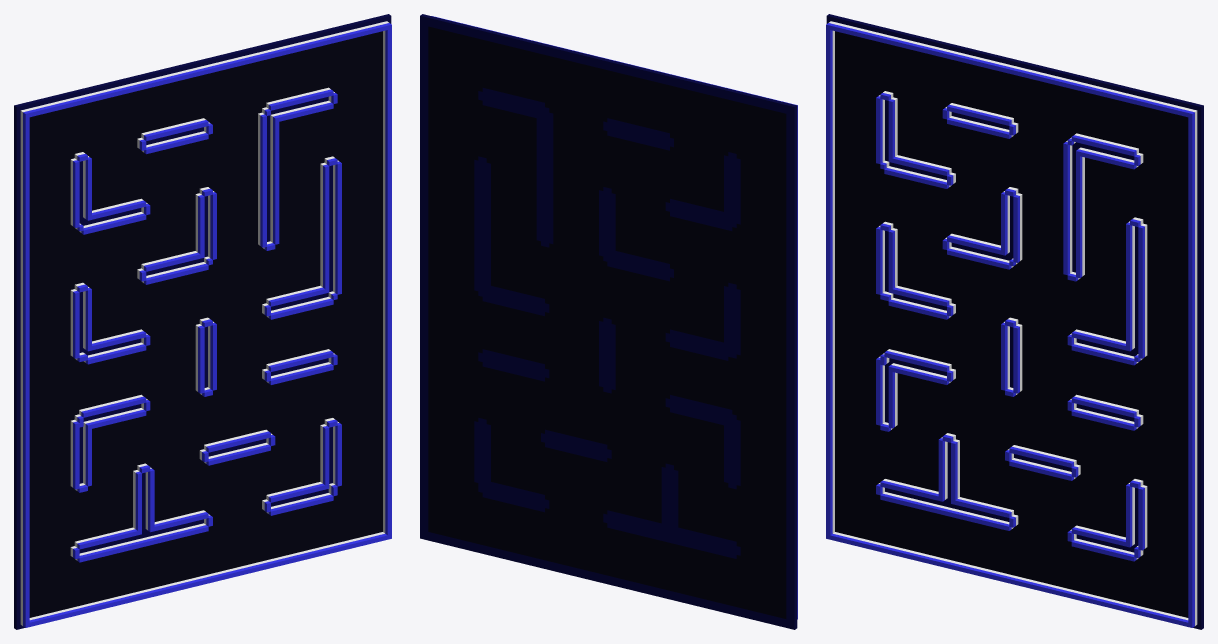
The model's file is Stage.fbx.
3 renders of one model, left to right at view 1: azimuth 30°, elevation 25°; view 2: azimuth 150°, elevation 25°; view 3: azimuth 330°, elevation 25°, orthographic.
Parts seen in each view (by area): view 1: Stage; view 2: Stage; view 3: Stage.
Part boxes in pixels (box(x1,y1,x2,y2)): Stage: box(14, 14, 391, 629); Stage: box(420, 14, 797, 629); Stage: box(826, 14, 1203, 629).
Bounding box in the file's own units: 900 × 1200 × 30.
Materials: 1 (1 with a texture image).
